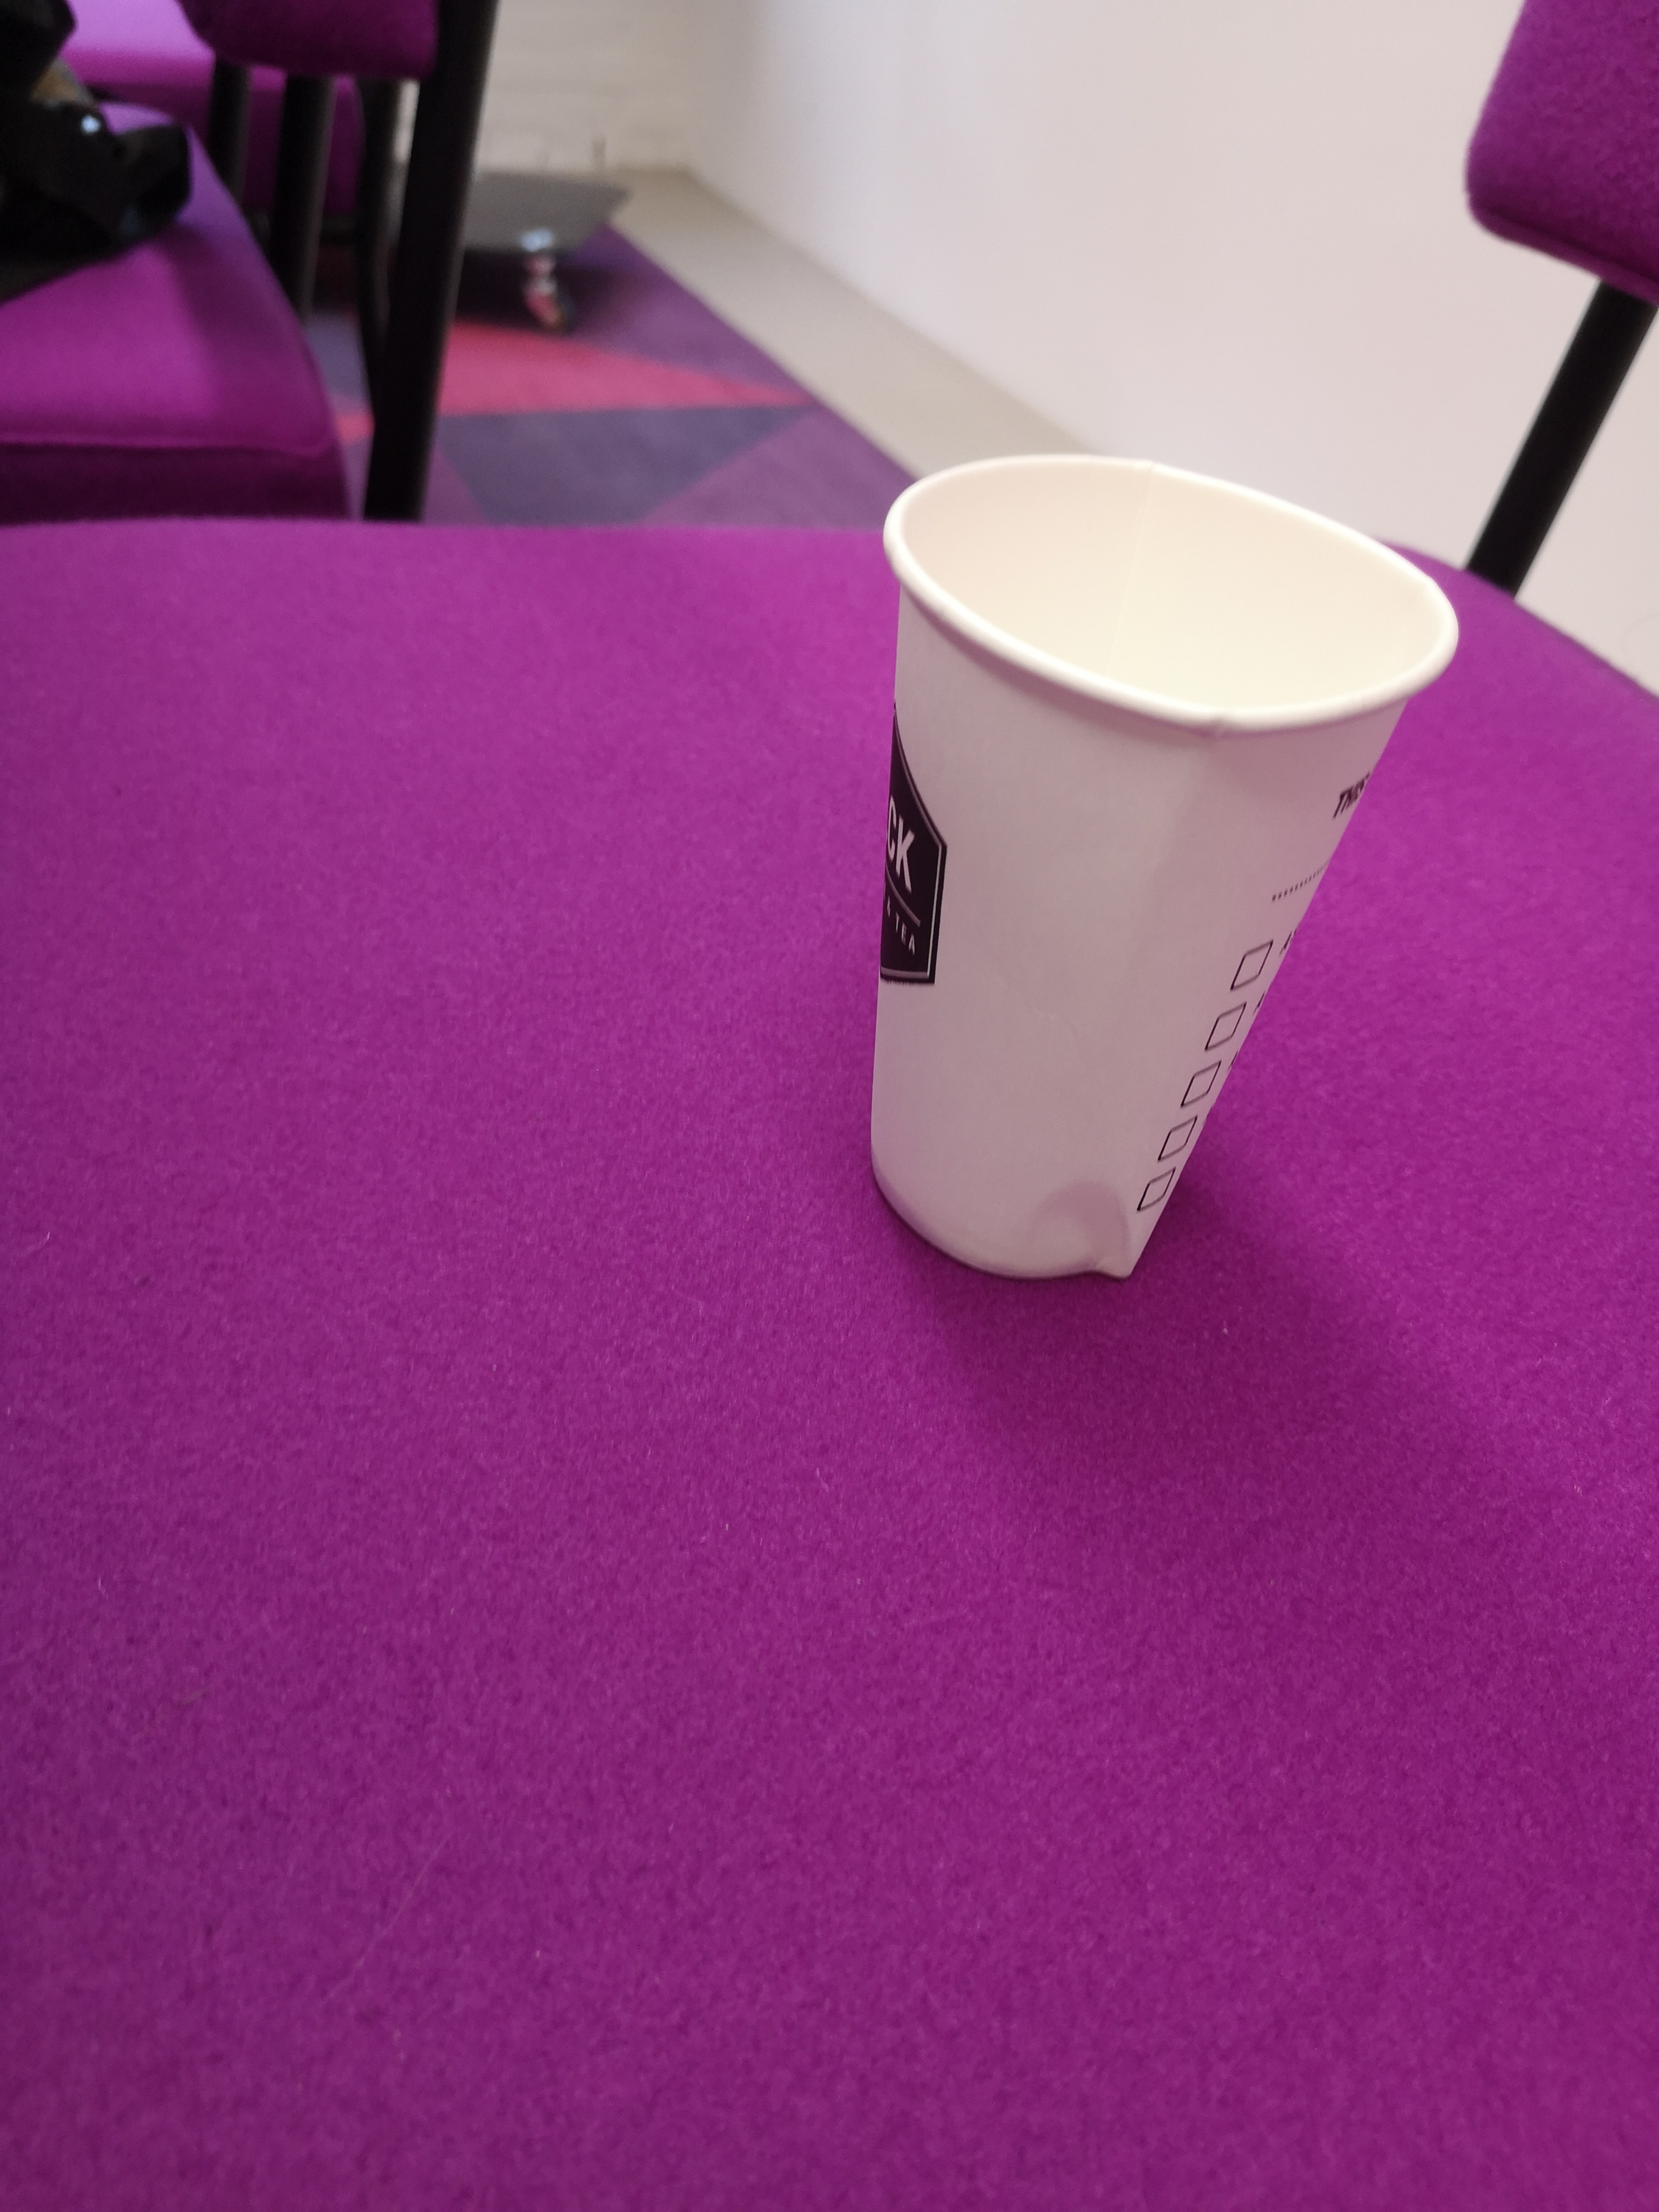cup: (826, 404, 1499, 1317)
